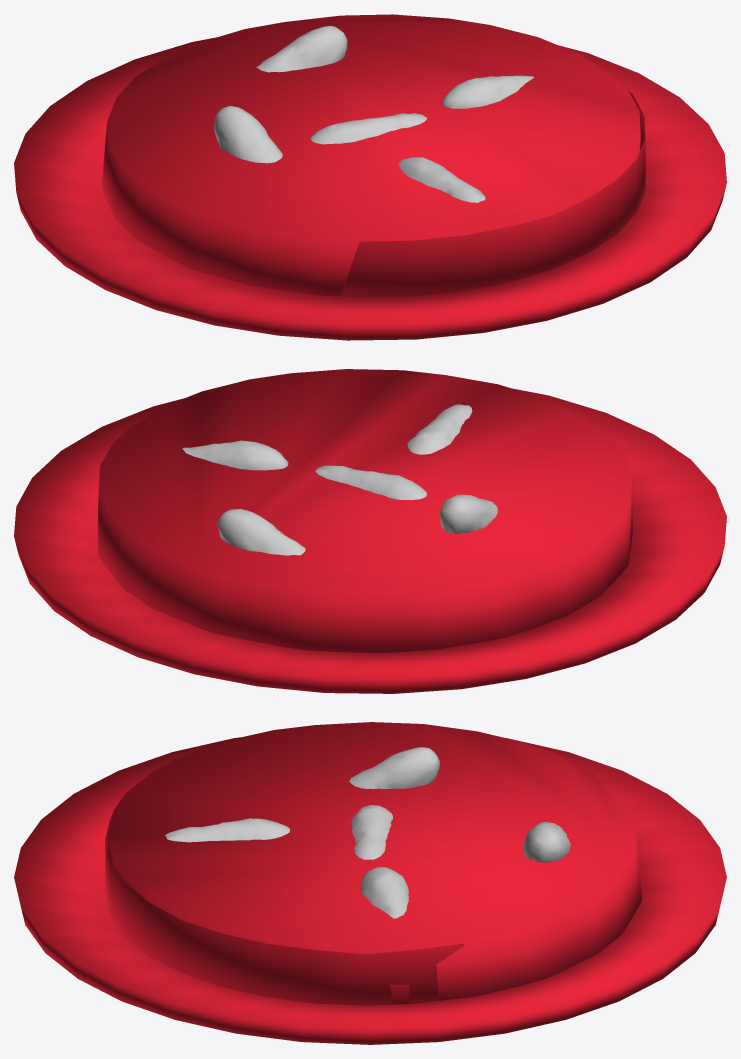
The model's file is cucumberTortilla.fbx.
3 views of the same model, one above another, from view 1: azimuth 30°, elevation 25°; view 2: azimuth 150°, elevation 25°; view 3: azimuth 270°, elevation 25° (orthographic).
Parts seen in each view (by area): view 1: cucumberTortilla; view 2: cucumberTortilla; view 3: cucumberTortilla.
Boxes of the visible parts, x1,y1,x2,y2 form: cucumberTortilla: [14, 14, 726, 340]; cucumberTortilla: [14, 369, 726, 693]; cucumberTortilla: [14, 722, 726, 1044].
Bounding box in the file's own units: 178 × 34.94 × 178.
